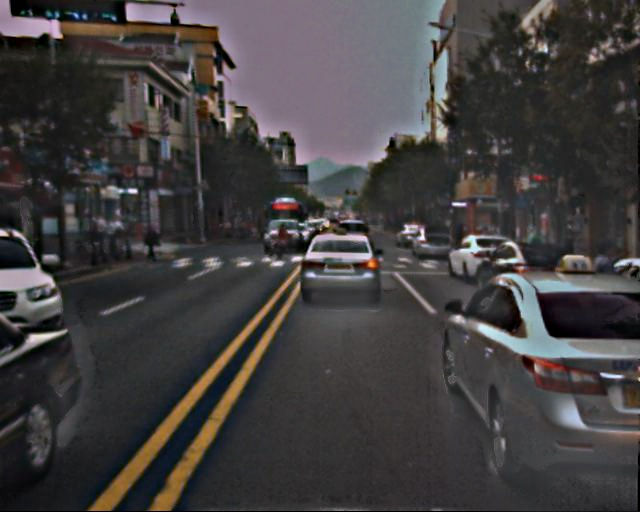person: (581, 242, 636, 375), (88, 214, 162, 261), (561, 224, 581, 272), (274, 222, 290, 261)
